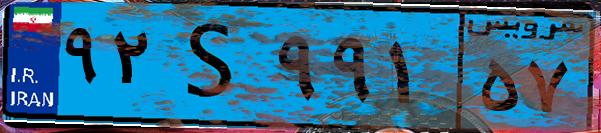1: (385, 28, 445, 110)
2: (110, 28, 158, 98)
5: (475, 38, 525, 113)
7: (525, 38, 570, 115)
9: (270, 28, 330, 110), (330, 28, 385, 110), (57, 26, 110, 100)
S: (158, 12, 270, 120)
